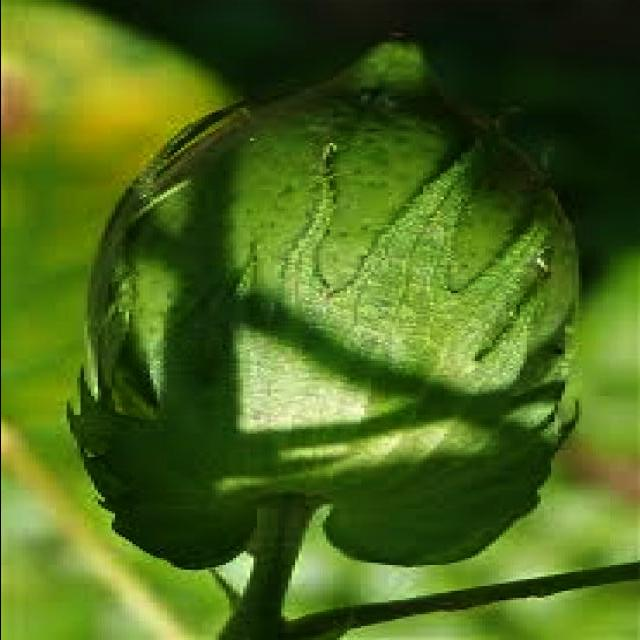Early Boll: (53, 22, 585, 576)
